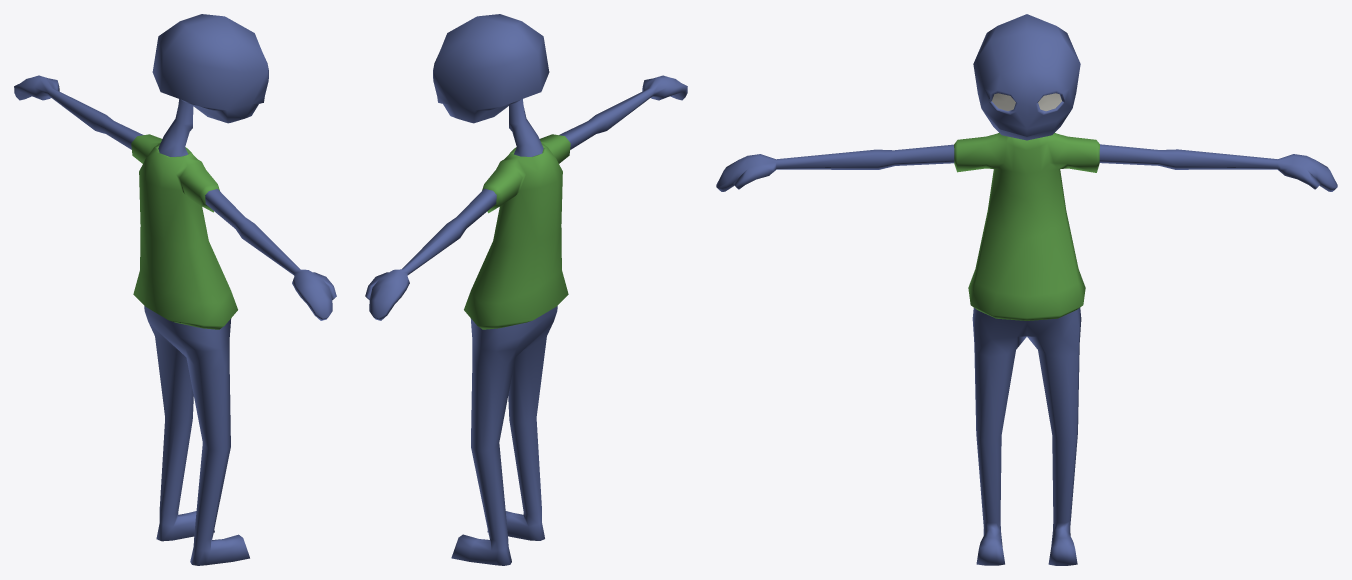
File: TherapyChar.fbx
3 renders of one model, left to right at view 1: azimuth 30°, elevation 25°; view 2: azimuth 150°, elevation 25°; view 3: azimuth 270°, elevation 25°, orthographic.
Visible parts, largest first — view 1: polySurface32; view 2: polySurface32; view 3: polySurface32.
Part boxes in pixels (bbox=[...]): polySurface32: bbox=[14, 14, 336, 565]; polySurface32: bbox=[365, 14, 687, 565]; polySurface32: bbox=[716, 14, 1337, 565].
Bounding box in the file's own units: 154 × 663 × 702.
